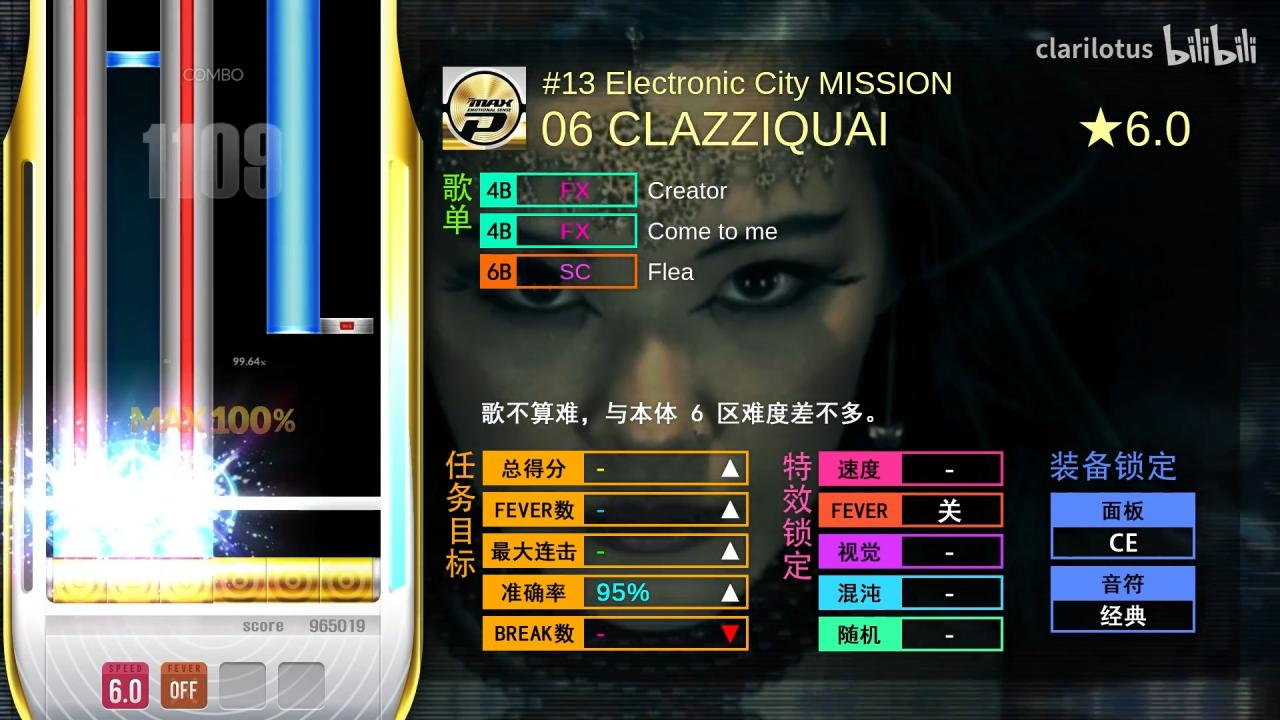hold-start: (266, 317, 321, 333)
note: (106, 51, 161, 68), (321, 318, 374, 334)
